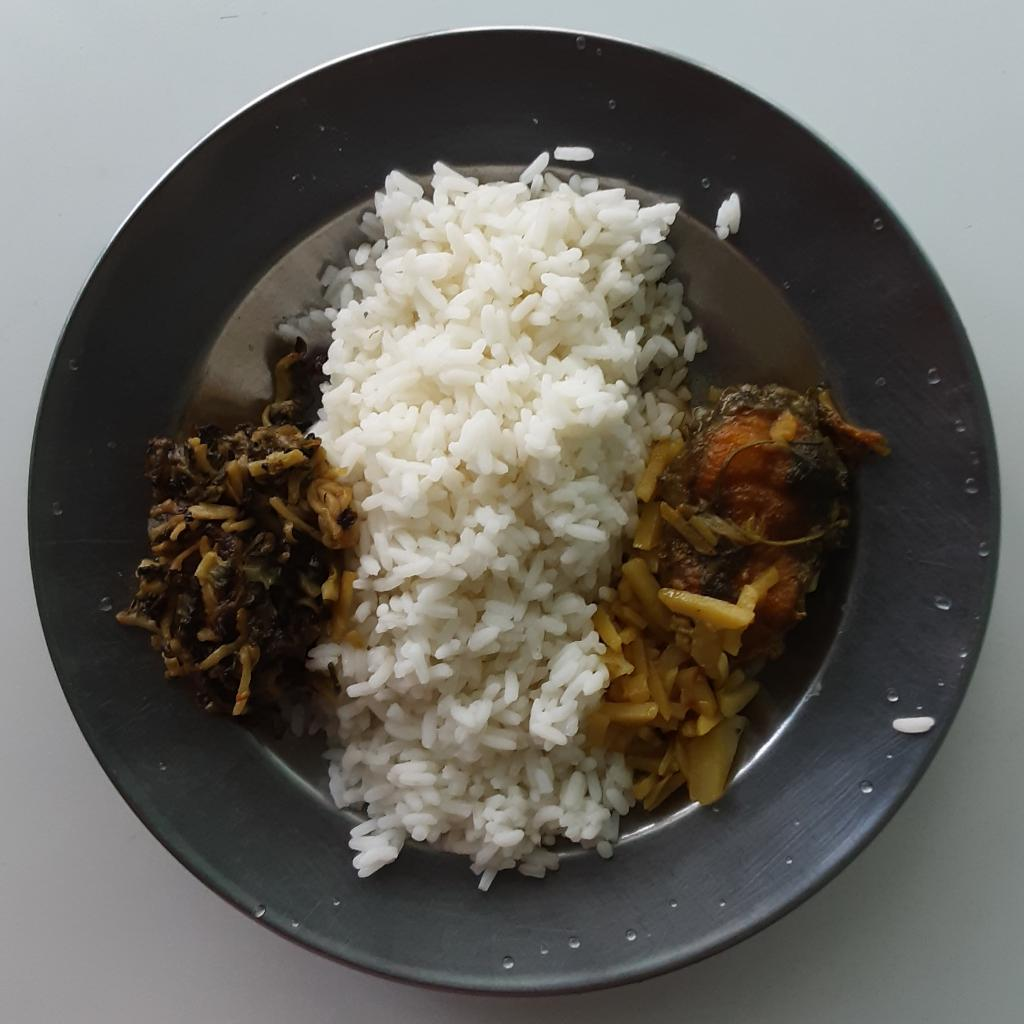fish: (646, 377, 903, 679)
korola-vaji: (110, 346, 352, 723)
potato: (597, 442, 788, 811)
rice: (284, 145, 709, 892), (713, 189, 743, 240)
